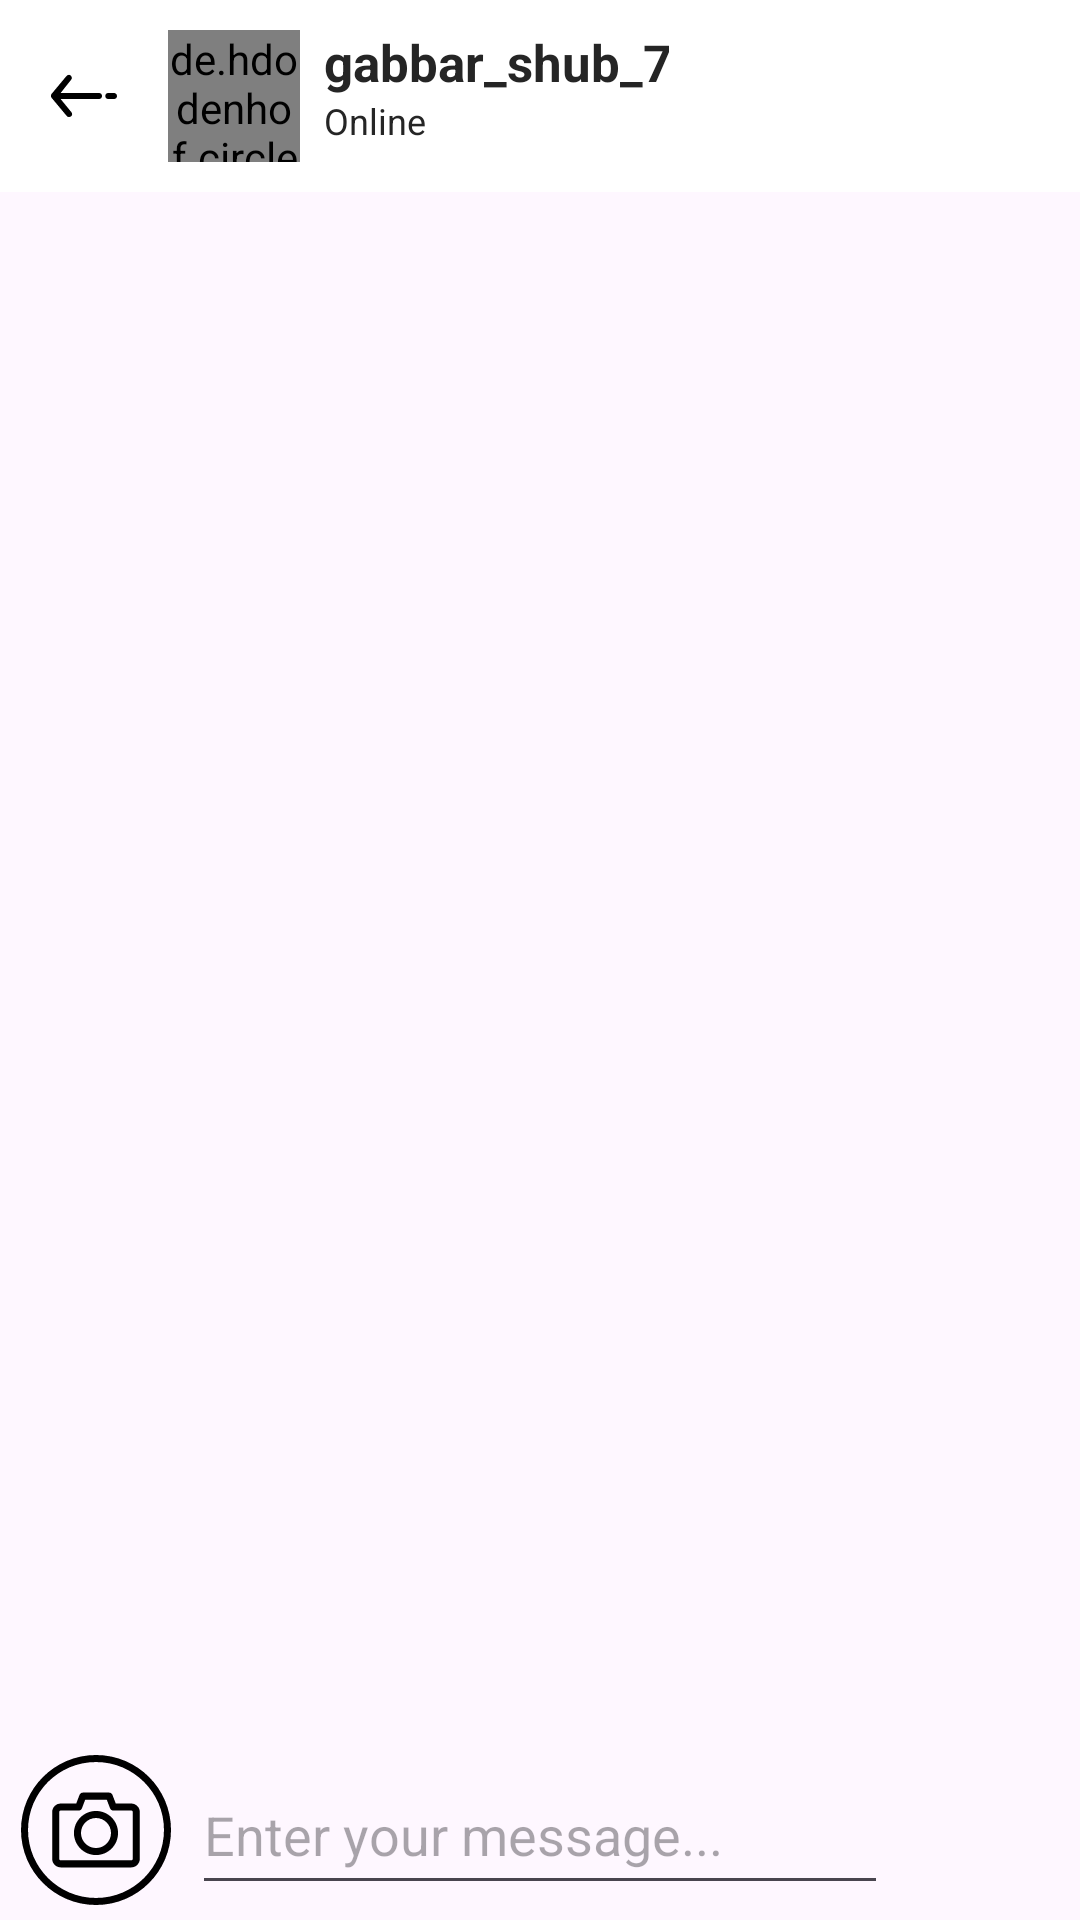

Icon click points for this 1080×1920 phone screenshot, format (x,y):
camera: (96,1830)
